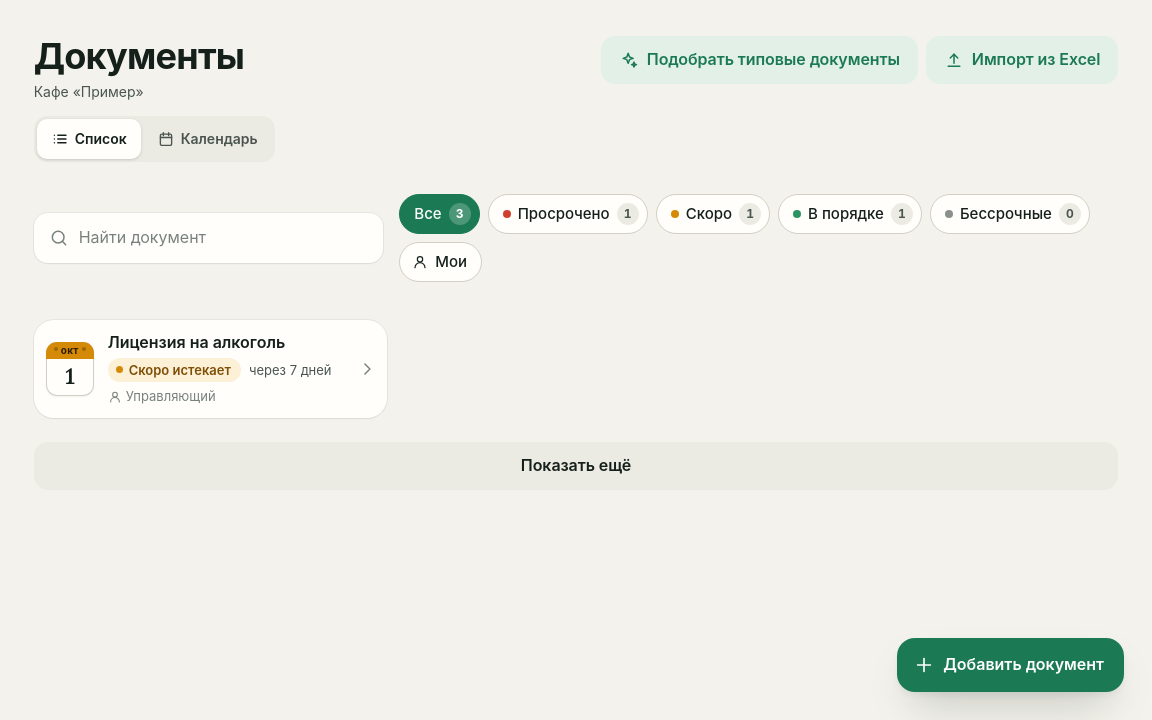
Scenario: T-FE-PAGE, T-FE-STATE: реестр документов › подгружает следующую страницу по курсору
The image size is (1152, 720).
expect the text "Лицензия на алкоголь" is shown: met, box left=108, top=332, right=285, bottom=352
Click the button "Показать ещё" at (576, 466), box left=34, top=442, right=1118, bottom=490
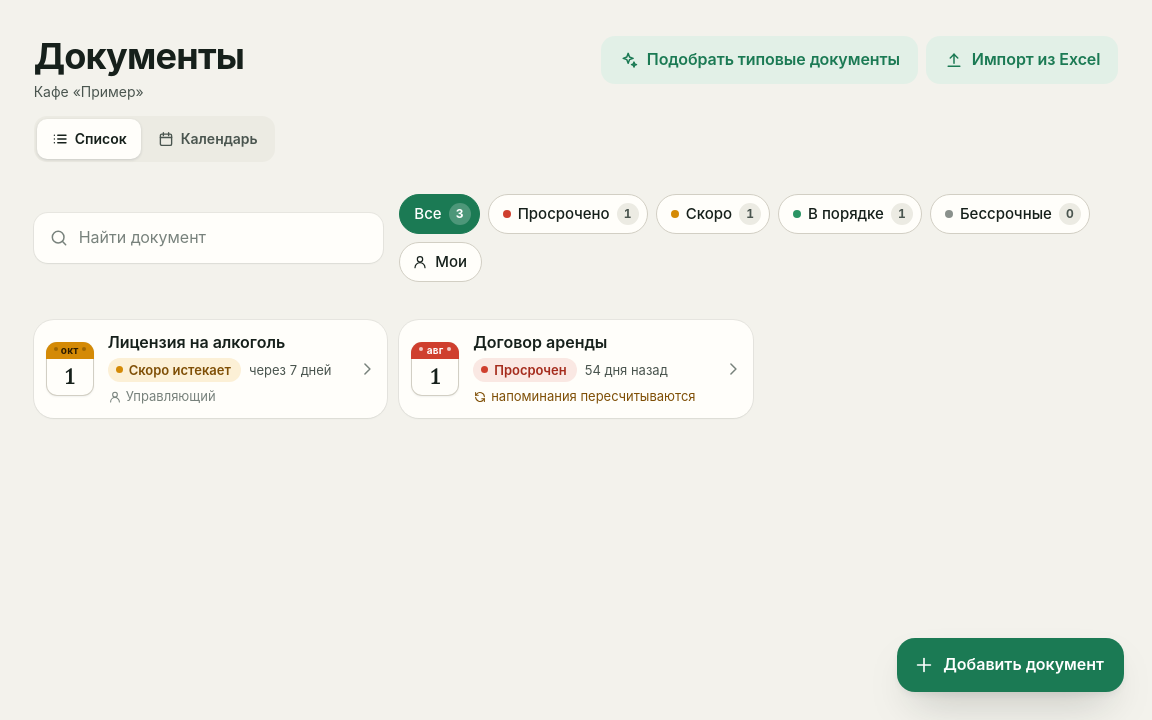
expect the text "Договор аренды" is shown: met, box left=473, top=332, right=607, bottom=352
